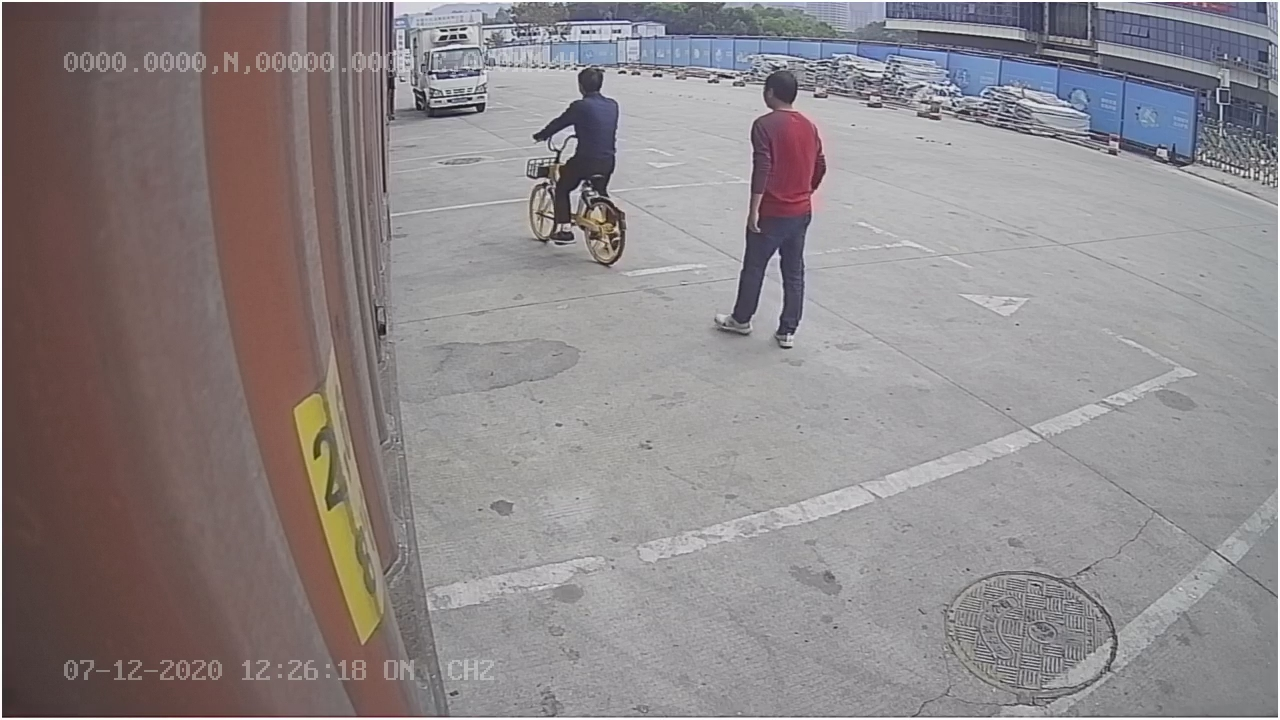person: (703, 67, 831, 352)
